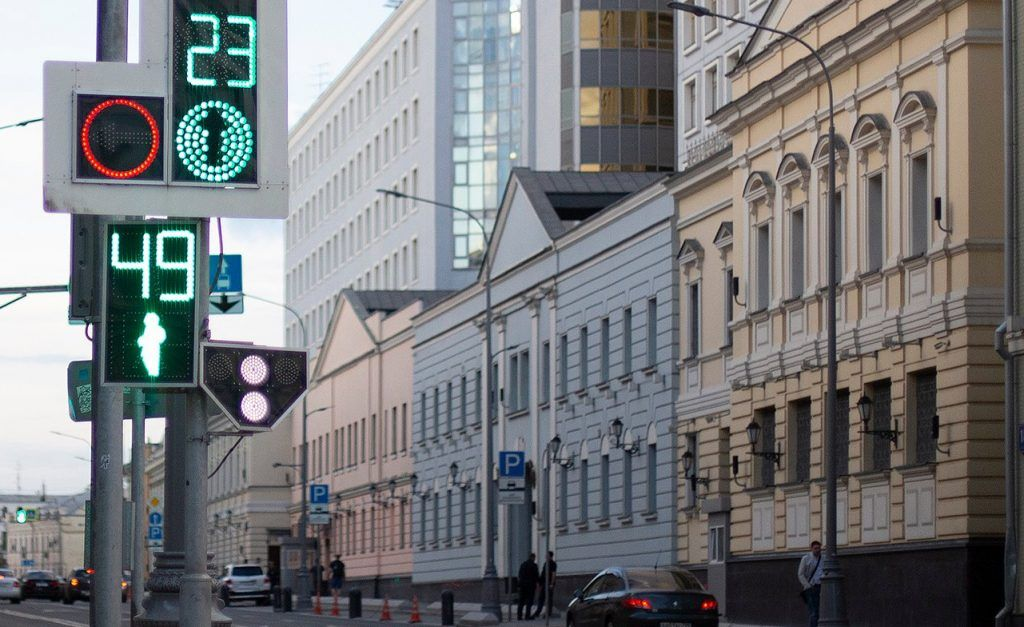tl: (45, 1, 286, 209), (97, 220, 204, 389)
